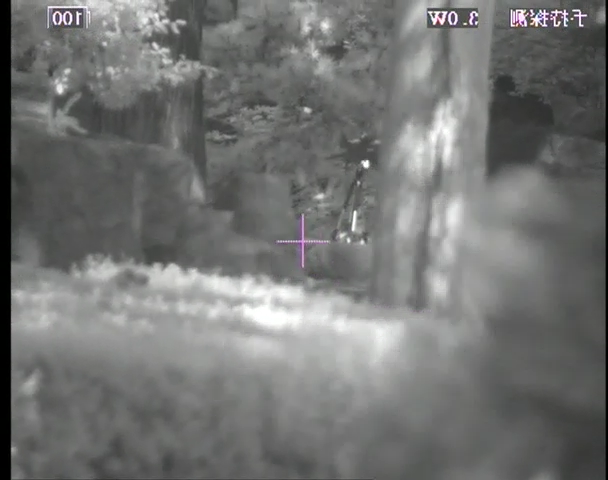my: (360, 159, 369, 169)
